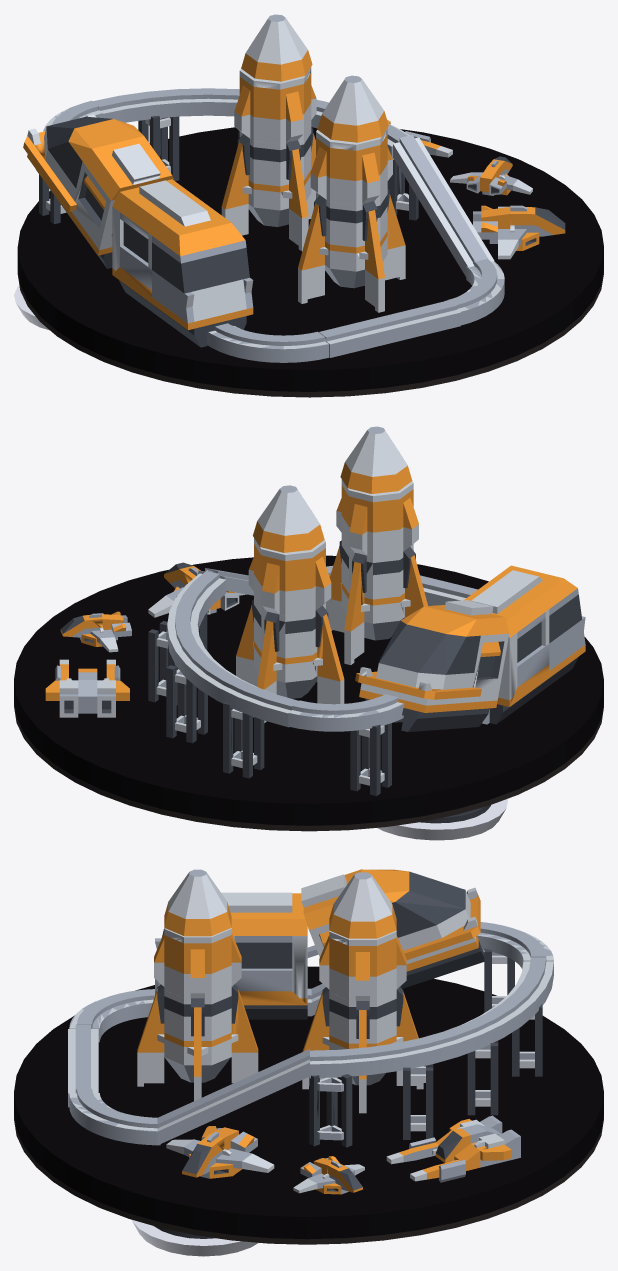
The model's file is amusement_park.obj.
3 renders of one model, top to bottom at view 1: azimuth 30°, elevation 25°; view 2: azimuth 150°, elevation 25°; view 3: azimuth 270°, elevation 25°, orthographic.
Parts seen in each view (by area): view 1: craft_speederD; view 2: craft_speederD; view 3: craft_speederD.
Boxes of the visible parts, x1,y1,x2,y2 form: craft_speederD: [14, 14, 603, 397]; craft_speederD: [14, 426, 603, 840]; craft_speederD: [14, 869, 603, 1256].
Bounding box in the file's own units: 3.88 × 1.94 × 3.86.
